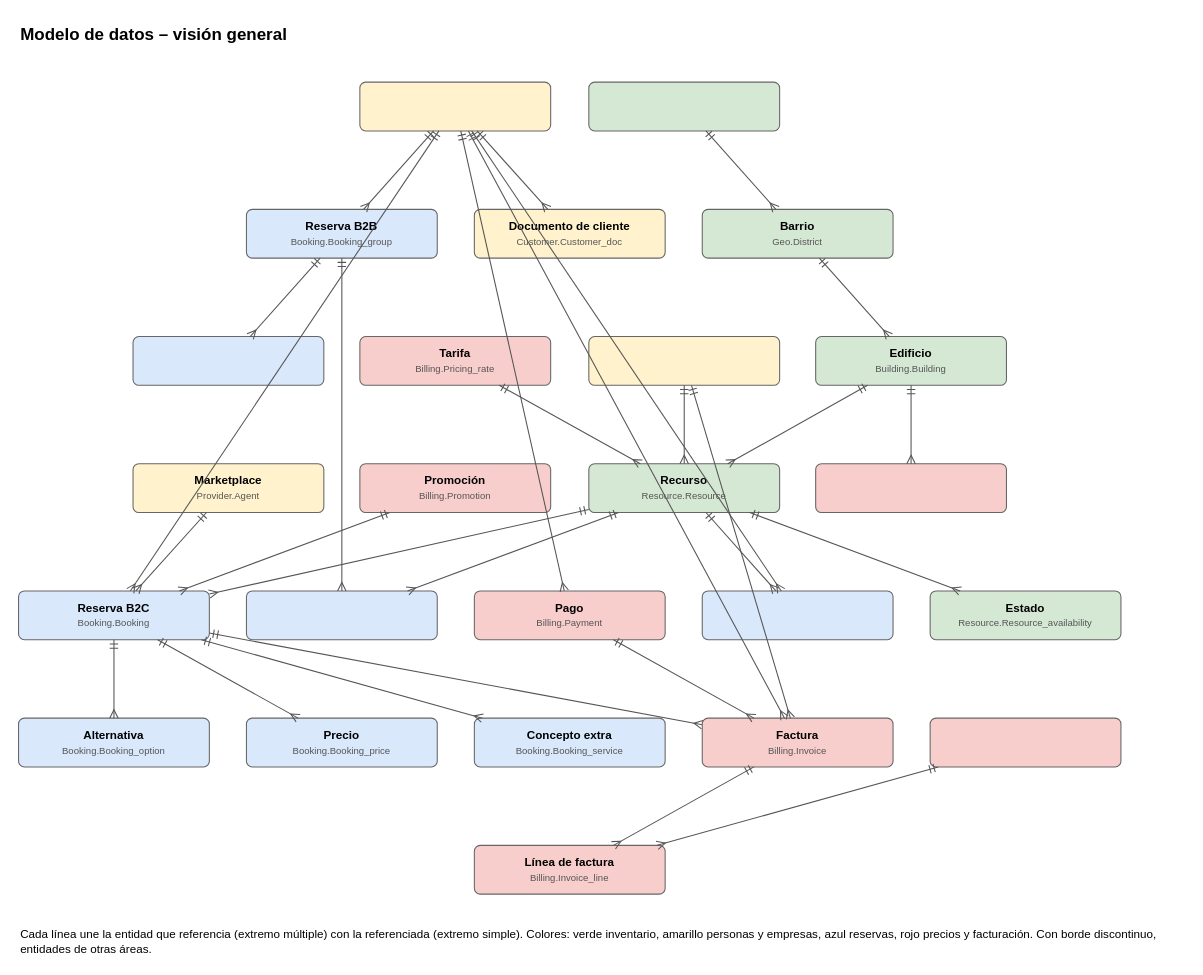
The diagram is 1203 pixels wide and 975 high, and some of its shapes have lost their labels. Each missing label, with the box of its shape:
Cliente Customer.Customer: (359, 81, 551, 131)
Habitación Booking.Booking_group_rooms: (245, 590, 437, 640)
Localidad Geo.Location: (588, 81, 780, 131)
Precio base Billing.Pricing_detail: (815, 463, 1006, 513)
Producto Billing.Product: (929, 717, 1121, 767)
Propietario Provider.Provider: (588, 335, 780, 385)
Reserva LAU y otros Booking.Booking_other: (701, 590, 893, 640)
Rooming list Booking.Booking_group_rooming: (132, 335, 324, 385)
